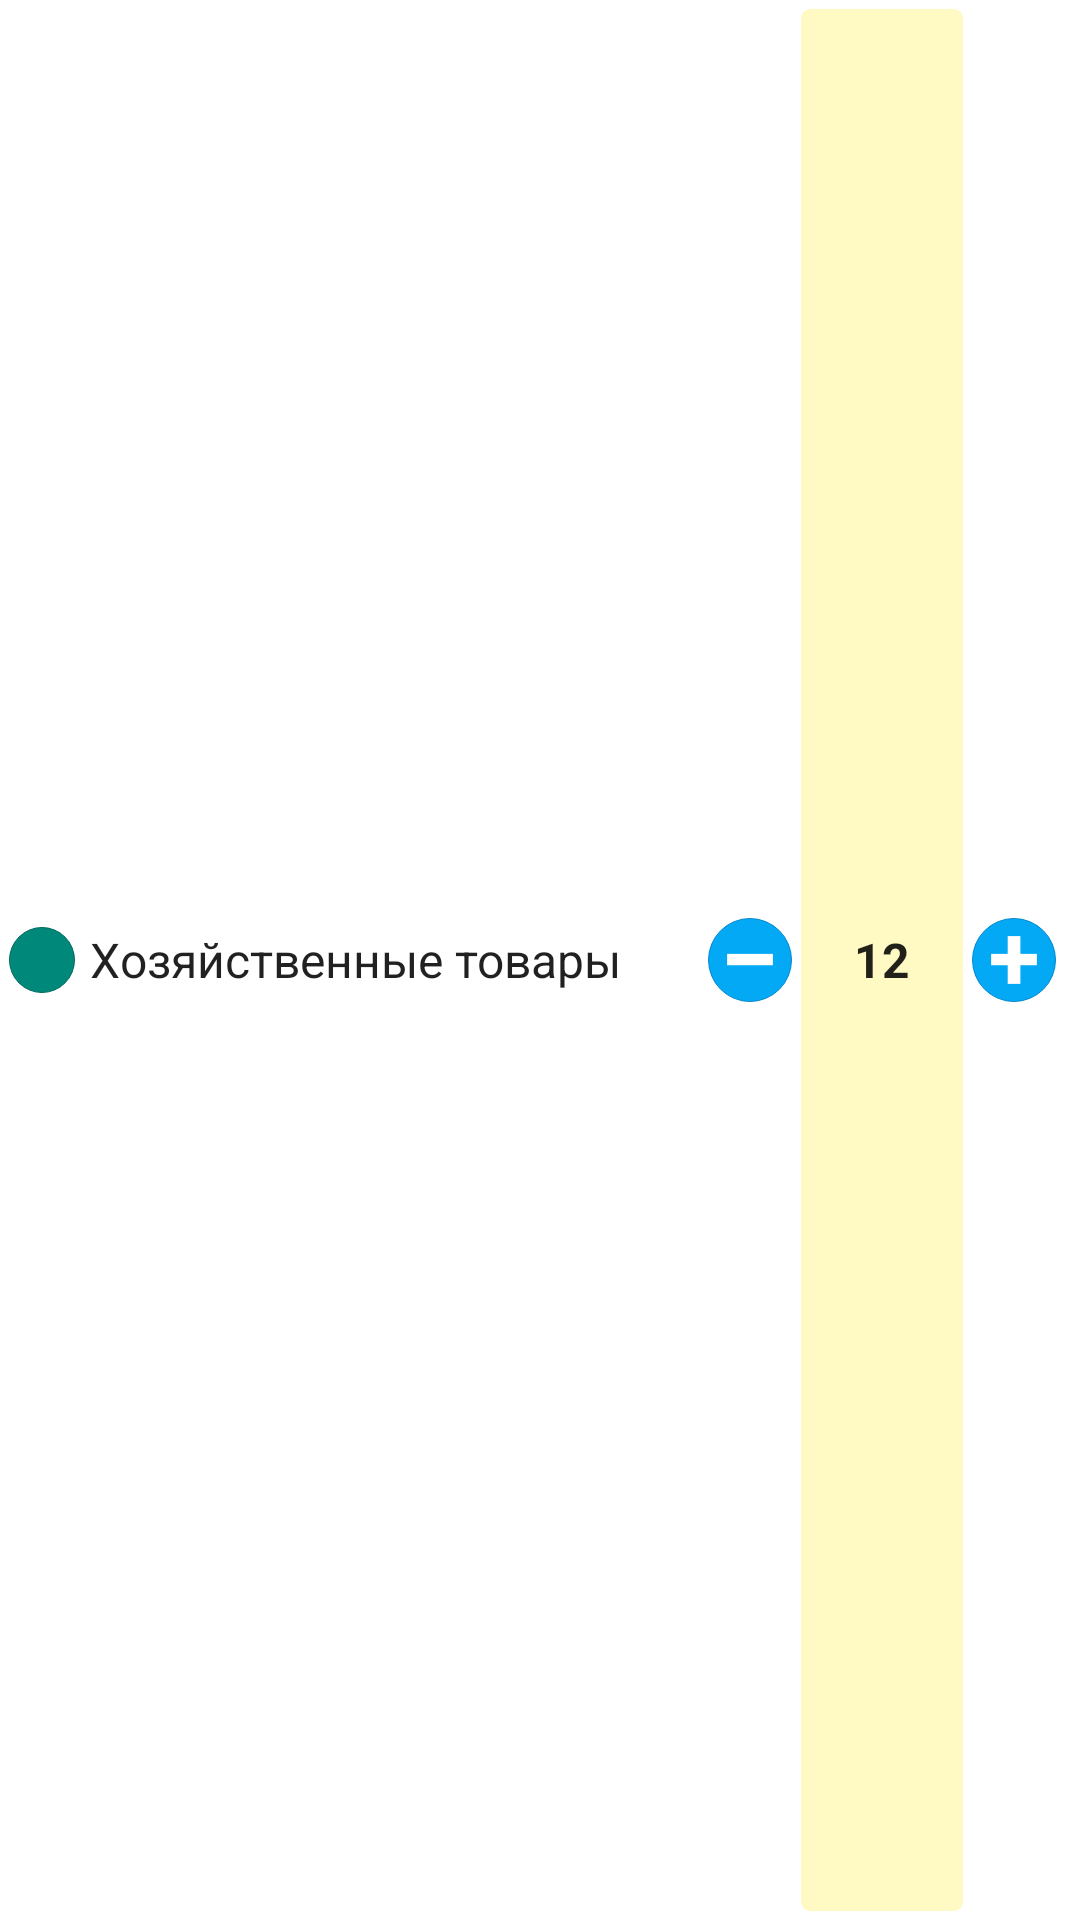

Locate icon controls on the screen. Image size 1080px×1920px, boxes as [x1, y1, x2, y2].
minus: [708, 918, 792, 1002]
plus: [972, 918, 1056, 1002]
